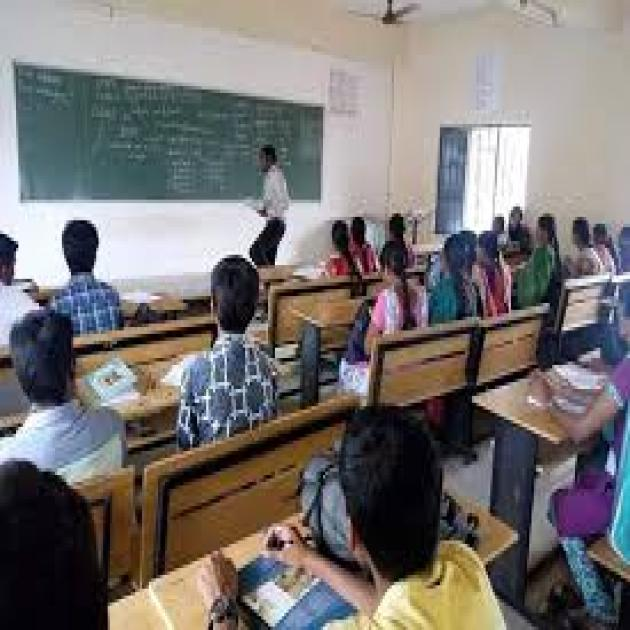there is a person: (228, 134, 304, 278)
there is a person sitting: (323, 389, 518, 630), (2, 272, 142, 523), (174, 248, 292, 500), (356, 228, 546, 383), (58, 209, 123, 363)
